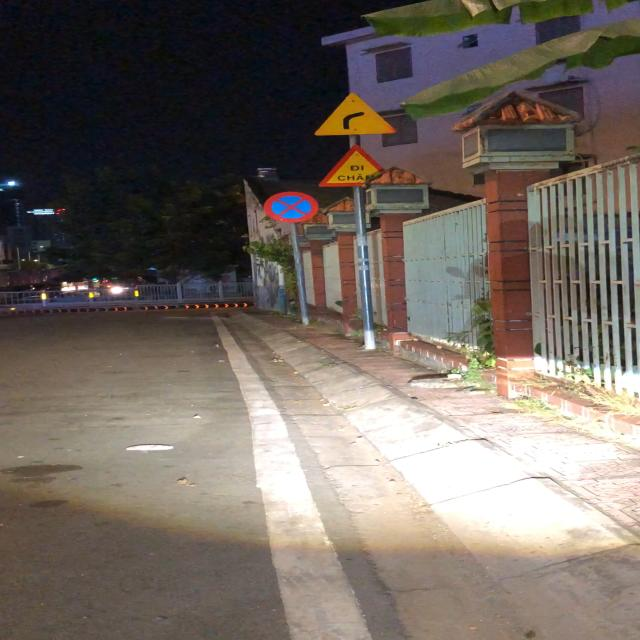Bien bao cam dung xe va do xe: (263, 191, 320, 223)
Bien bao cho ngoat nguy hiem: (312, 92, 400, 136)
Bien bao di cham: (316, 143, 387, 189)
